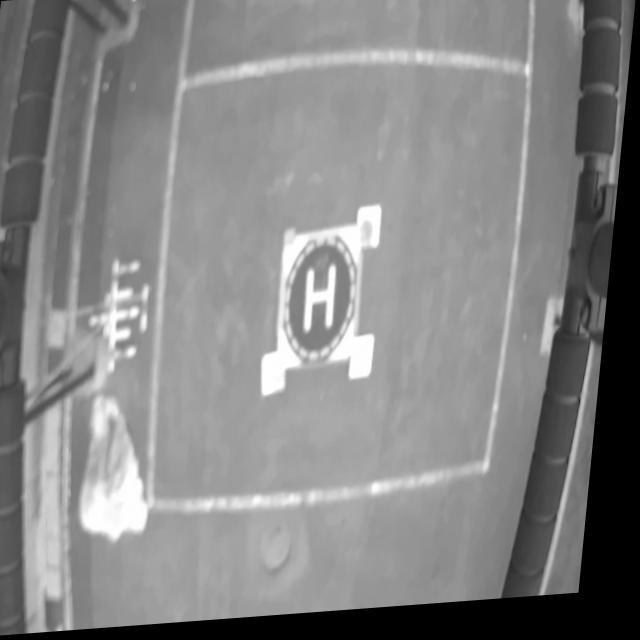Helipad: (309, 269, 341, 337)
